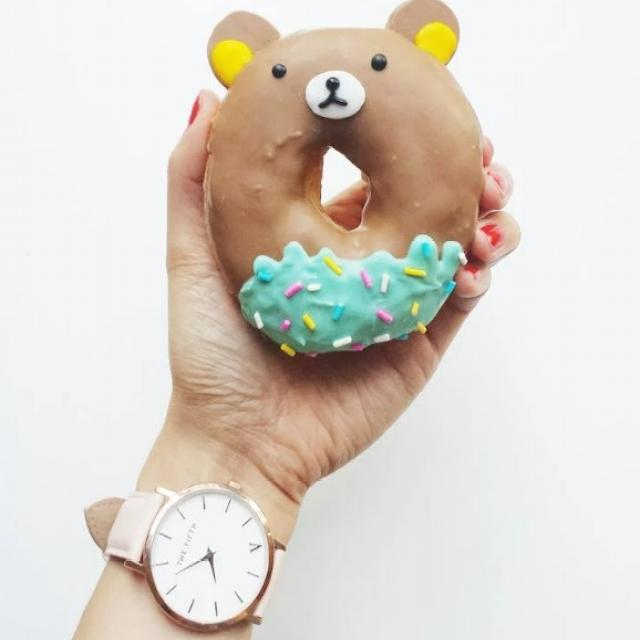Watch: (83, 480, 290, 637)
